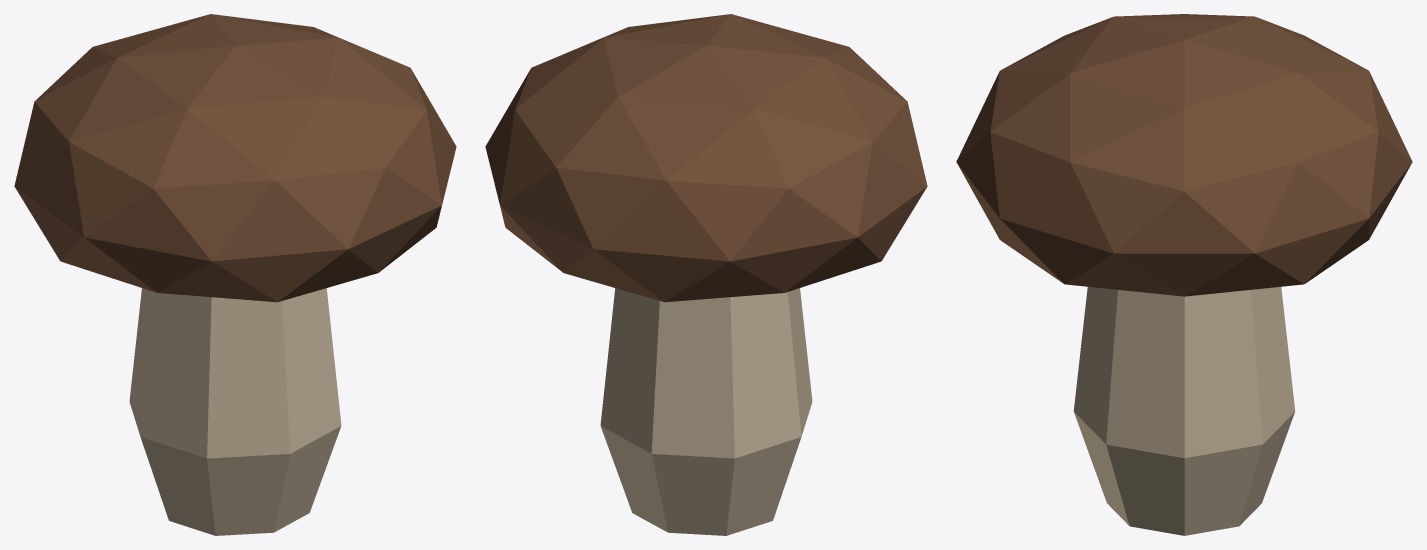
Rendered from mushroom_01.glb.
The picture shows the model from 3 angles, left to right: view 1: azimuth 30°, elevation 25°; view 2: azimuth 150°, elevation 25°; view 3: azimuth 270°, elevation 25°; orthographic projection.
Parts seen in each view (by area): view 1: Object_114, Object_115; view 2: Object_114, Object_115; view 3: Object_114, Object_115.
Part boxes in pixels (x1=…): Object_114: x1=14, y1=14, x2=456, y2=302; Object_115: x1=129, y1=288, x2=341, y2=535; Object_114: x1=485, y1=14, x2=927, y2=302; Object_115: x1=600, y1=288, x2=812, y2=535; Object_114: x1=956, y1=14, x2=1412, y2=296; Object_115: x1=1073, y1=287, x2=1295, y2=535.
Size of the model in its own units: 0.8422 by 0.9921 by 0.8855.
